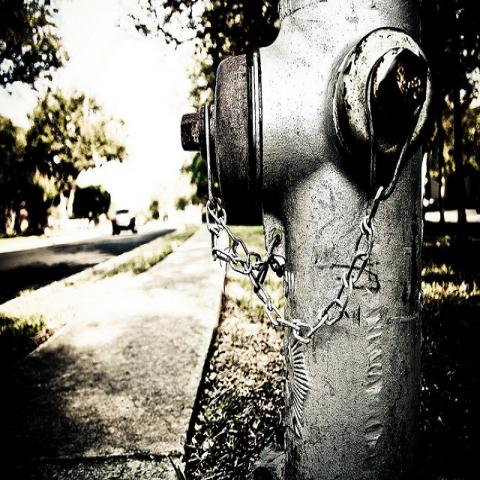car: (111, 208, 137, 235)
